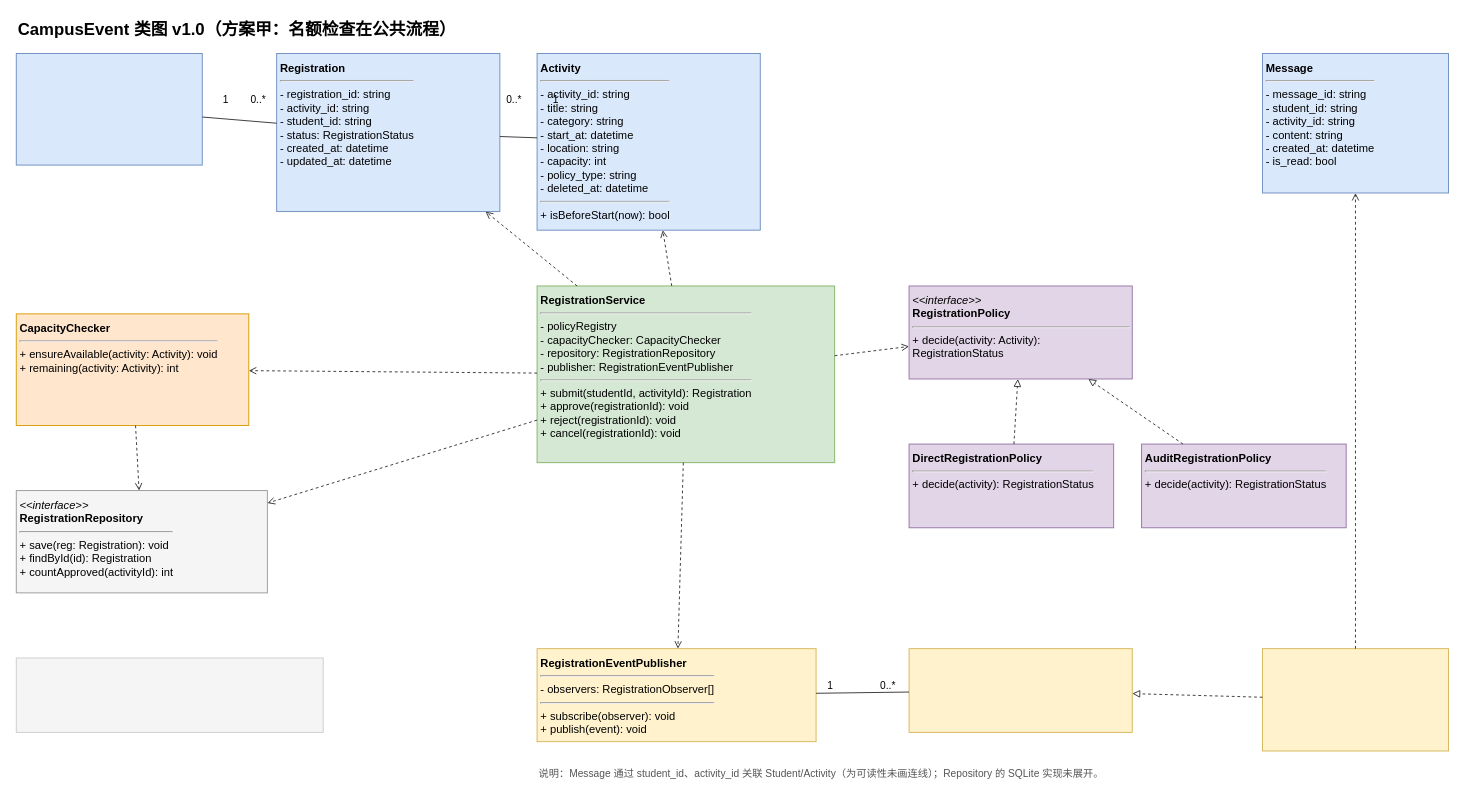
This 1465x804 diagram has some shape labels left out. The box of each missing label's shape, as (x1, y1, x2, y2) in pixels:
<<interface>> RegistrationObserver + onRegistrationEvent(event): void: (908, 648, 1132, 732)
MessageObserver + onRegistrationEvent(event): void: (1262, 648, 1448, 751)
Student - student_id: string - name: string: (15, 53, 202, 165)
版本：v1.0 日期：2026-11-22 阶段：CR 前基线段（baseline-v1） 方案：甲（名额检查在公共流程）: (15, 657, 323, 732)
